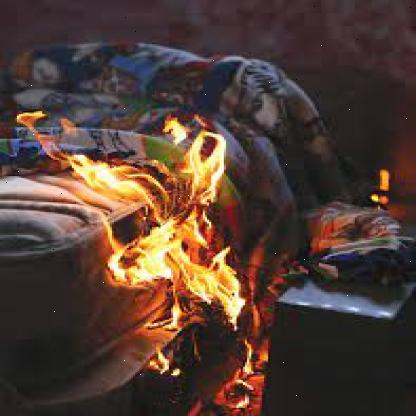fire: (8, 105, 258, 337), (144, 298, 266, 408)
